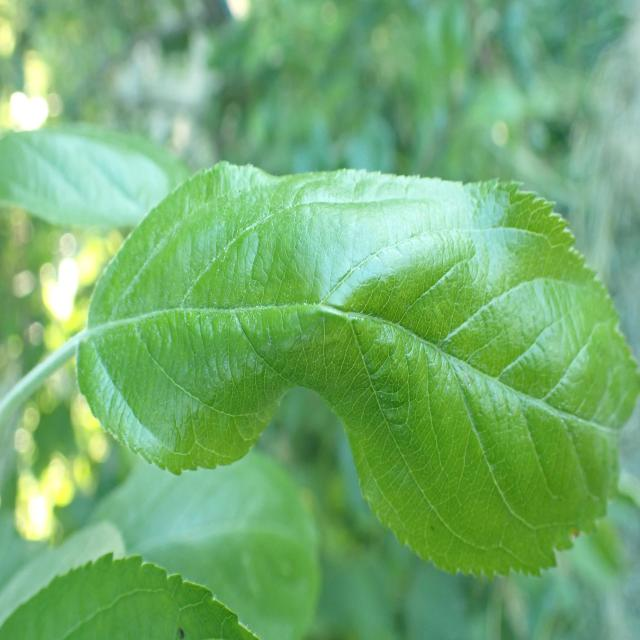healthy: (79, 160, 637, 580), (1, 552, 262, 640)
